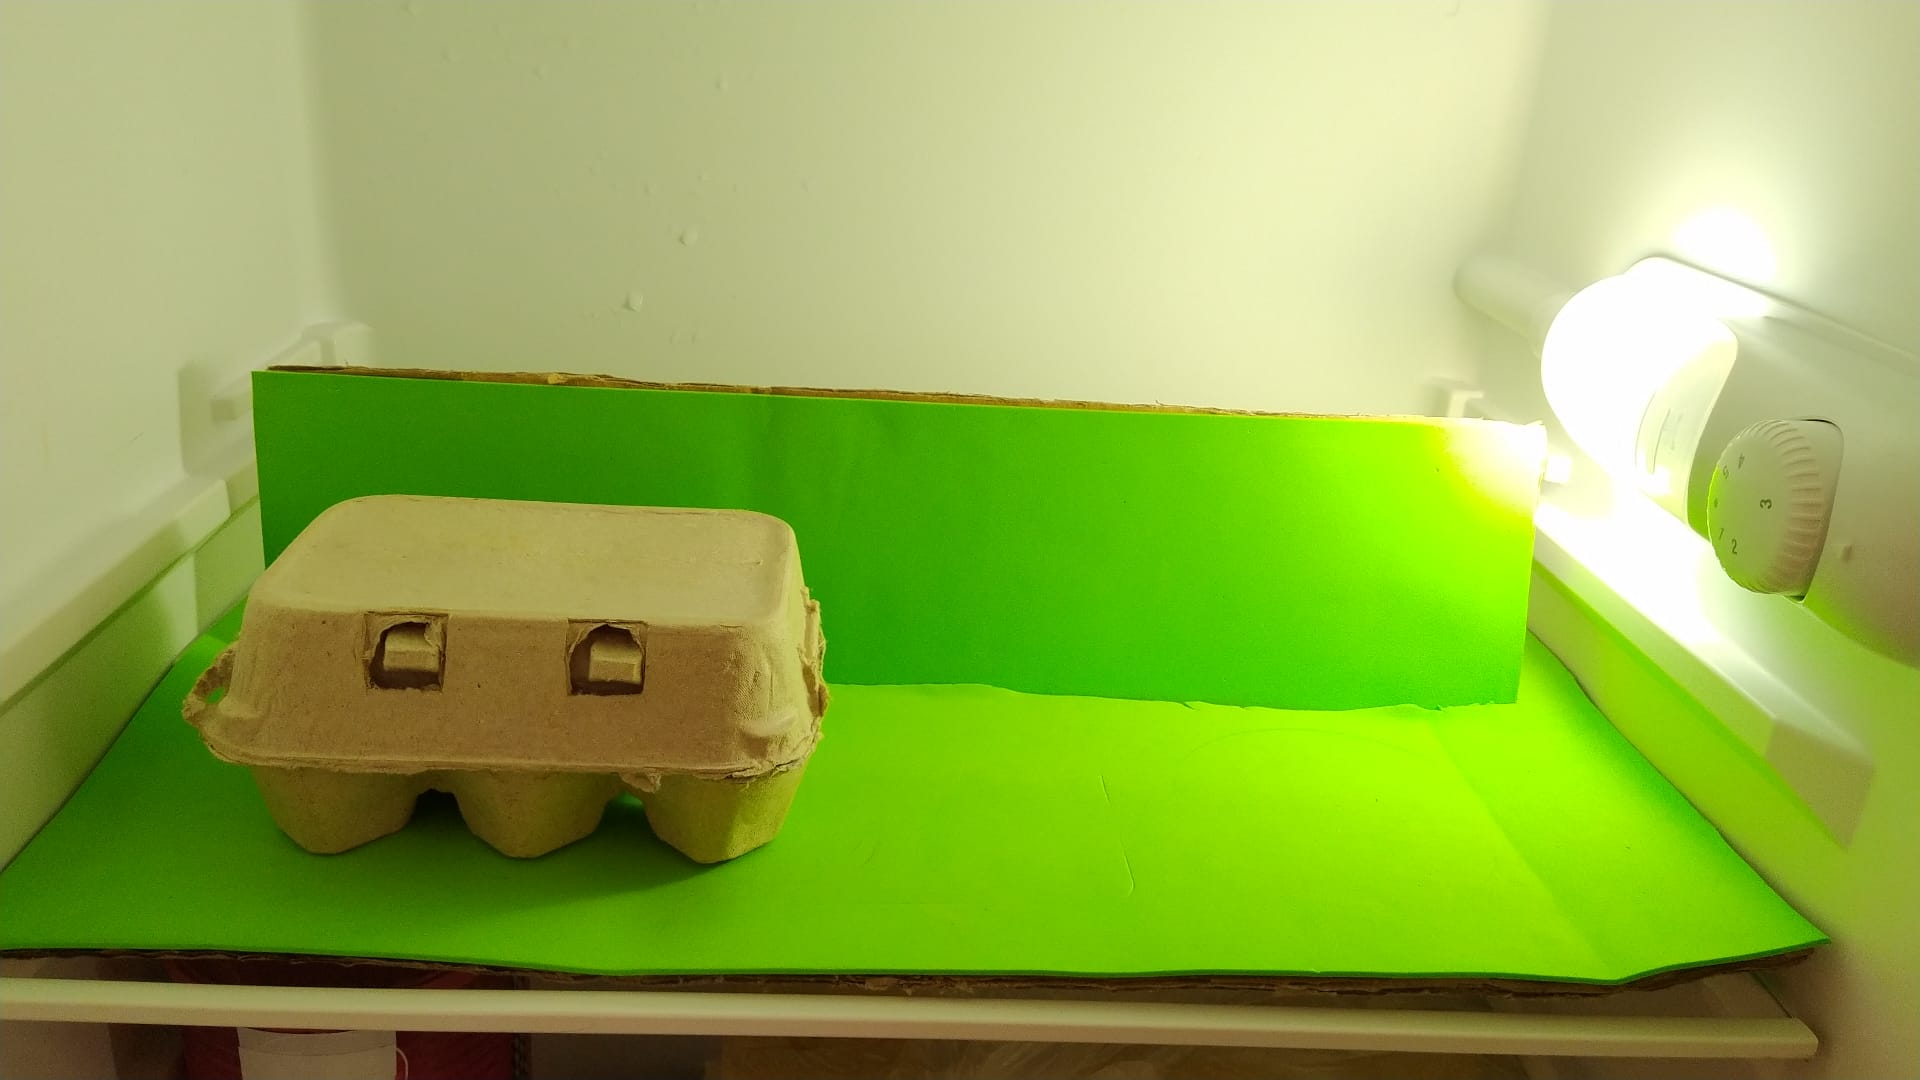egg: (185, 495, 829, 865)
